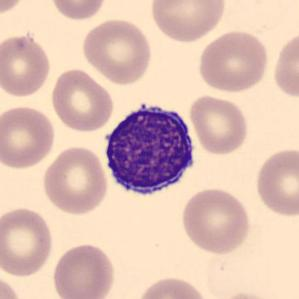Lymphocyte: (99, 96, 200, 202)
RBC: (177, 185, 252, 256), (40, 143, 110, 217), (80, 16, 154, 86), (195, 28, 271, 94), (49, 66, 115, 134), (0, 204, 55, 278), (49, 241, 117, 299), (188, 93, 250, 156), (0, 103, 57, 170), (0, 32, 52, 99), (147, 0, 228, 43), (252, 146, 299, 218), (270, 29, 299, 101), (134, 274, 211, 299), (47, 0, 108, 21), (210, 289, 283, 299), (0, 272, 24, 299), (0, 0, 27, 17)
